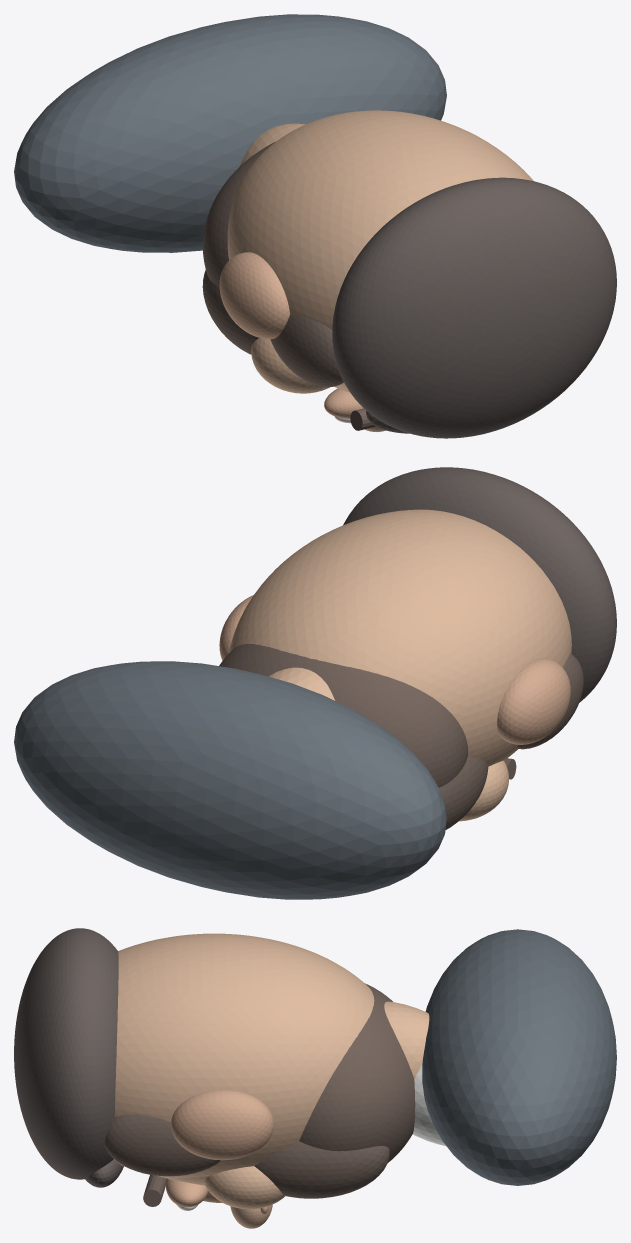
The model's file is ahmed_al_sharaa_face.glb.
The picture shows the model from 3 angles, top to bottom: view 1: azimuth 30°, elevation 25°; view 2: azimuth 150°, elevation 25°; view 3: azimuth 270°, elevation 25°; orthographic projection. The views are drawn at different scales.
Parts seen in each view (by area): view 1: shoulders, hair_cap, head, ear-1, sideburn-1, beard_jaw, left_cheek, beard_side-1, eye_socket-1, neck; view 2: shoulders, head, hair_cap, beard_jaw, ear-1, beard_side-1, left_cheek, sideburn-1, neck, ear1; view 3: head, shoulders, hair_cap, beard_jaw, ear1, beard_side1, sideburn1, right_cheek, neck, shirt, eye_socket1, nose_tip (+2 smaller).
Boxes of the visible parts, x1,y1,x2,y2 form: shoulders: (14,14,446,252); hair_cap: (332,177,616,438); head: (227,110,533,390); ear-1: (219,252,289,338); sideburn-1: (270,314,343,387); beard_jaw: (203,142,274,286); left_cheek: (251,338,330,393); beard_side-1: (202,270,259,354); eye_socket-1: (324,388,363,418); neck: (240,123,305,165); shoulders: (14,661,446,899); head: (229,509,571,766); hair_cap: (343,467,616,702); beard_jaw: (219,644,468,787); ear-1: (497,658,570,744); beard_side-1: (439,756,488,829); left_cheek: (459,760,508,821); sideburn-1: (517,654,583,749); neck: (269,667,334,700); ear1: (219,595,253,660); head: (113,933,374,1178); shoulders: (422,929,616,1185); hair_cap: (14,928,118,1179); beard_jaw: (299,983,415,1162); ear1: (171,1090,273,1160); beard_side1: (254,1141,389,1198); sideburn1: (104,1114,220,1176); right_cheek: (204,1166,285,1209); neck: (384,1001,429,1078); shirt: (412,1064,445,1145); eye_socket1: (165,1178,208,1207); nose_tip: (230,1204,272,1228).
Bounding box in the file's own units: 2.1 × 1.51 × 2.92.
